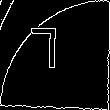L_S: (39, 29, 71, 81)
